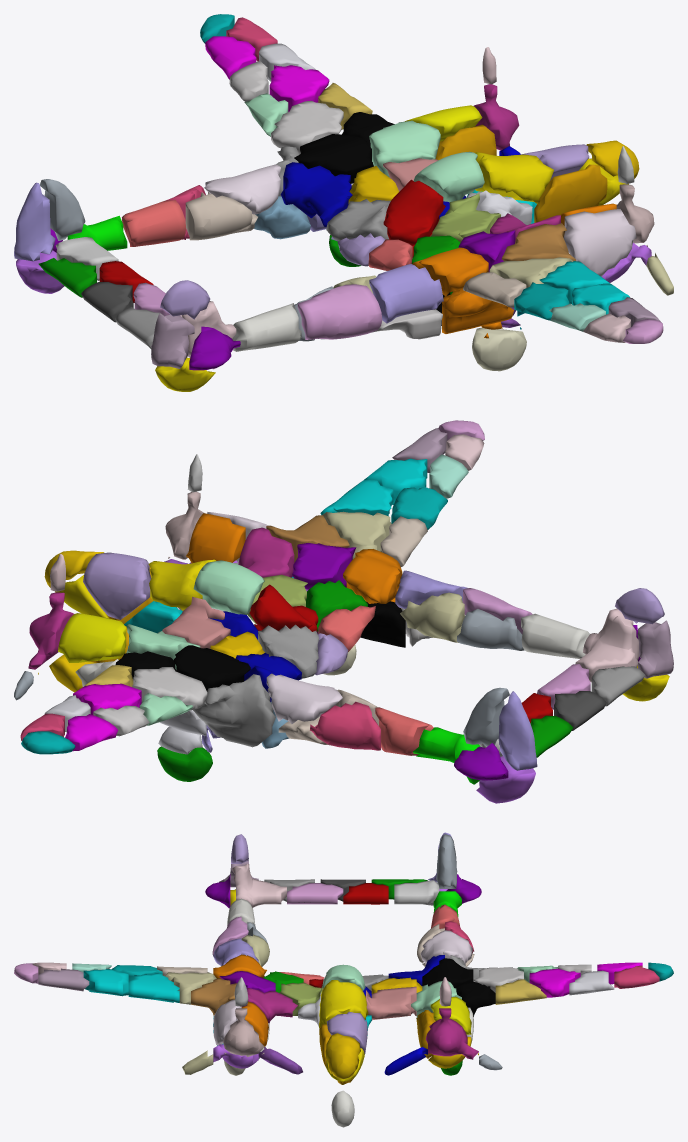
The model's file is 6_local.glb.
3 renders of one model, top to bottom at view 1: azimuth 30°, elevation 25°; view 2: azimuth 150°, elevation 25°; view 3: azimuth 270°, elevation 25°, orthographic. The views are drawn at different scales.
Size of the model in its own units: 0.7391 by 0.243 by 1.01.
